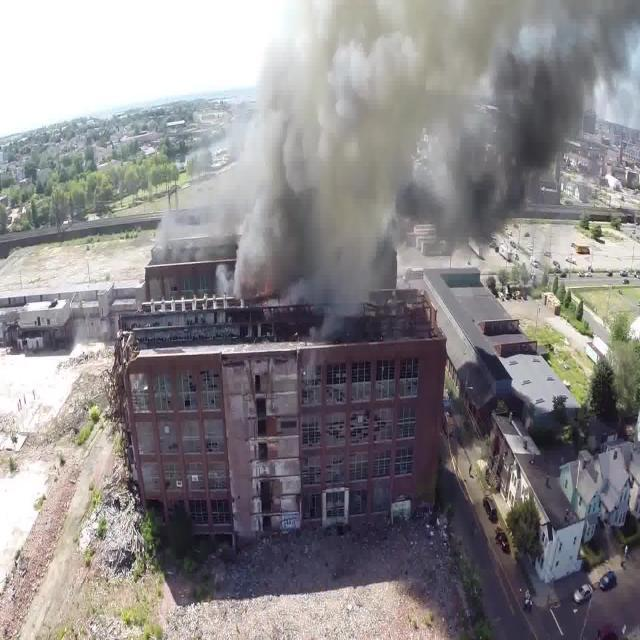Smoke: (235, 0, 640, 307)
